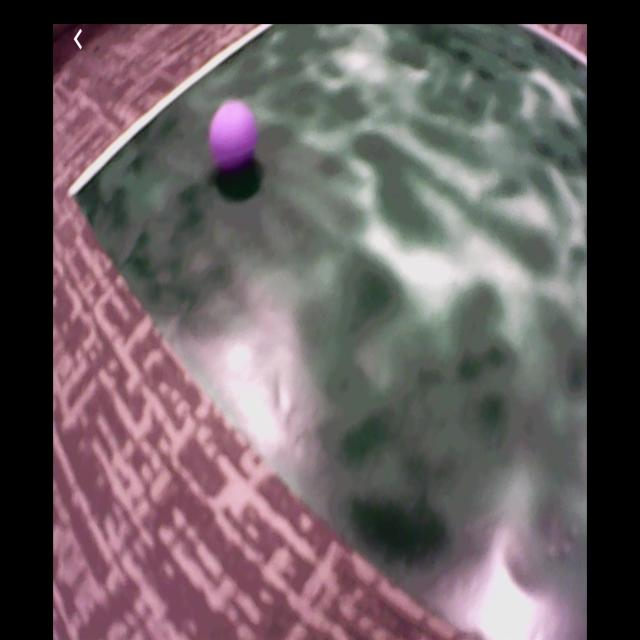ball: (210, 102, 256, 169)
